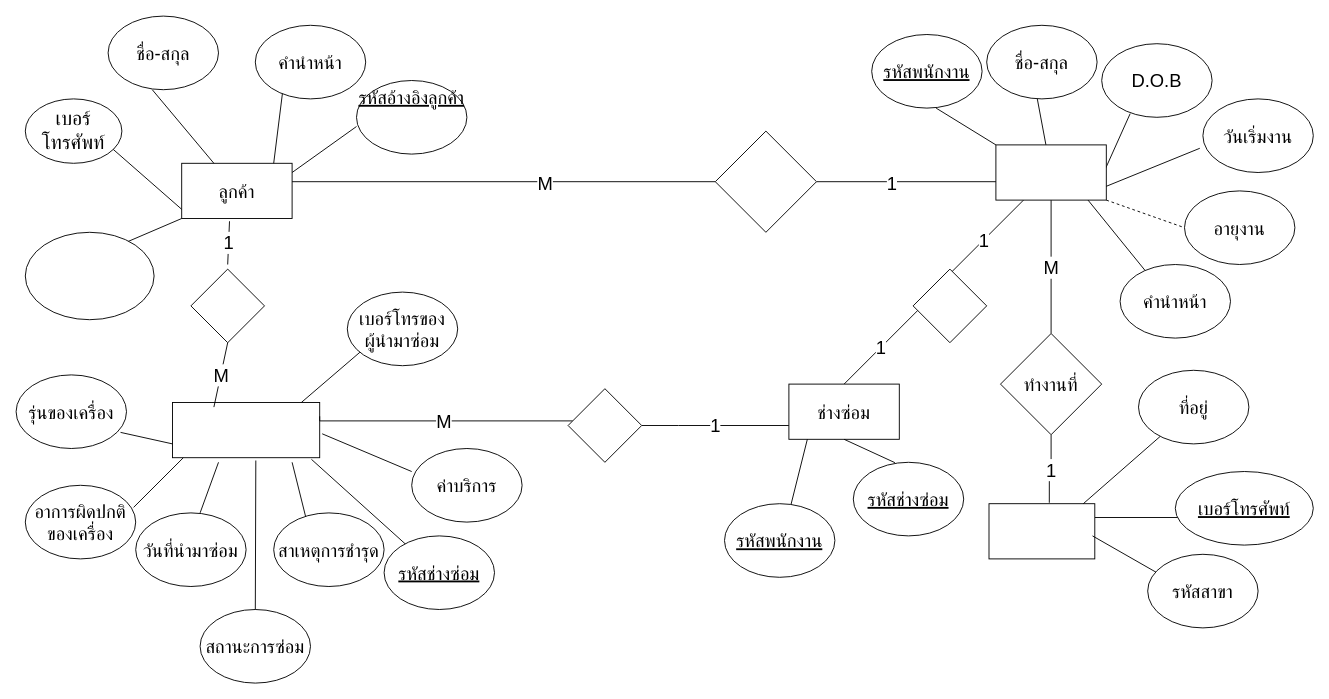
Some shapes in this 1329 by 699 pixel diagram are drawn without their labels. Here are the shapes that lost their labels. From the top down, the centre of each, then its label:
At point 765,181: "บริการ".
At point 1050,172: "พนักงาน".
At point 89,275: "วันที่ใช้บริการล่าสุด".
At point 227,305: "นำมา".
At point 949,305: "เป็น".
At point 246,430: "โทรศัพท์ที่นำมาซ่อม".
At point 604,425: "ซ่อม".
At point 1041,531: "สาขา".
